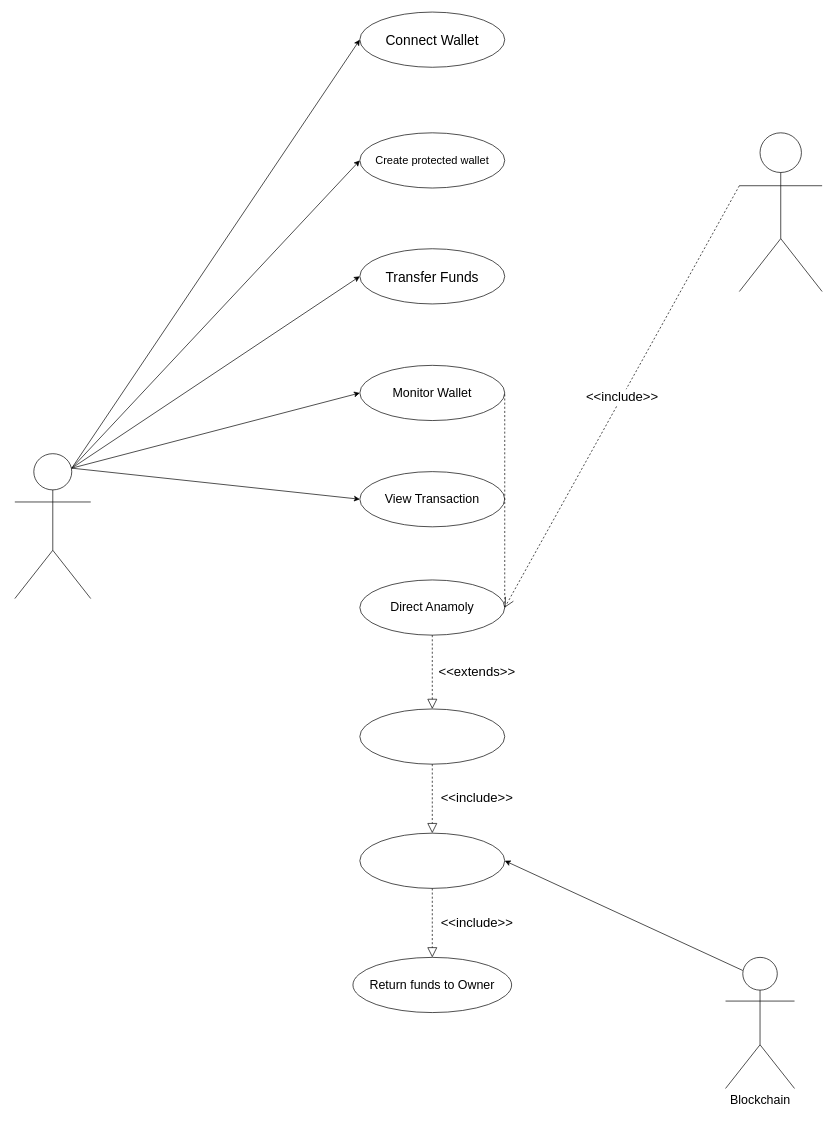
Some shapes in this 834 by 1121 pixel diagram are drawn without their labels. The centre of each missing label's shape, as x and y in pixels:
"Attacker" goes at point 780,212.
"Swap Tokens" goes at point 432,860.
"Trigger self-destruct" goes at point 432,736.
"Wallet Owner" goes at point 52,526.
